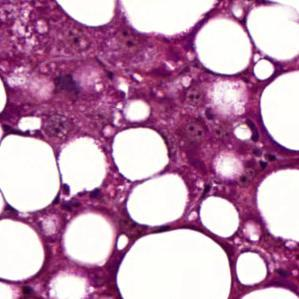steatosis: (0, 132, 61, 211), (110, 126, 173, 182), (194, 19, 254, 75), (128, 176, 190, 228), (200, 196, 245, 238), (236, 248, 269, 287)
